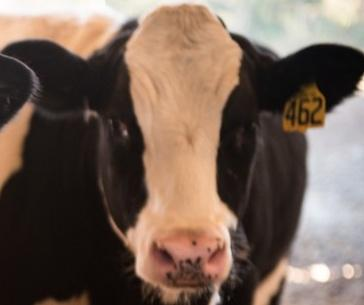muzzles: (132, 223, 238, 296)
